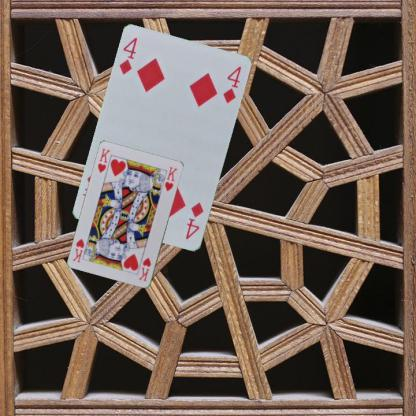4d: (116, 35, 139, 76), (183, 199, 205, 241)
Kh: (96, 146, 112, 174), (136, 255, 152, 282)
